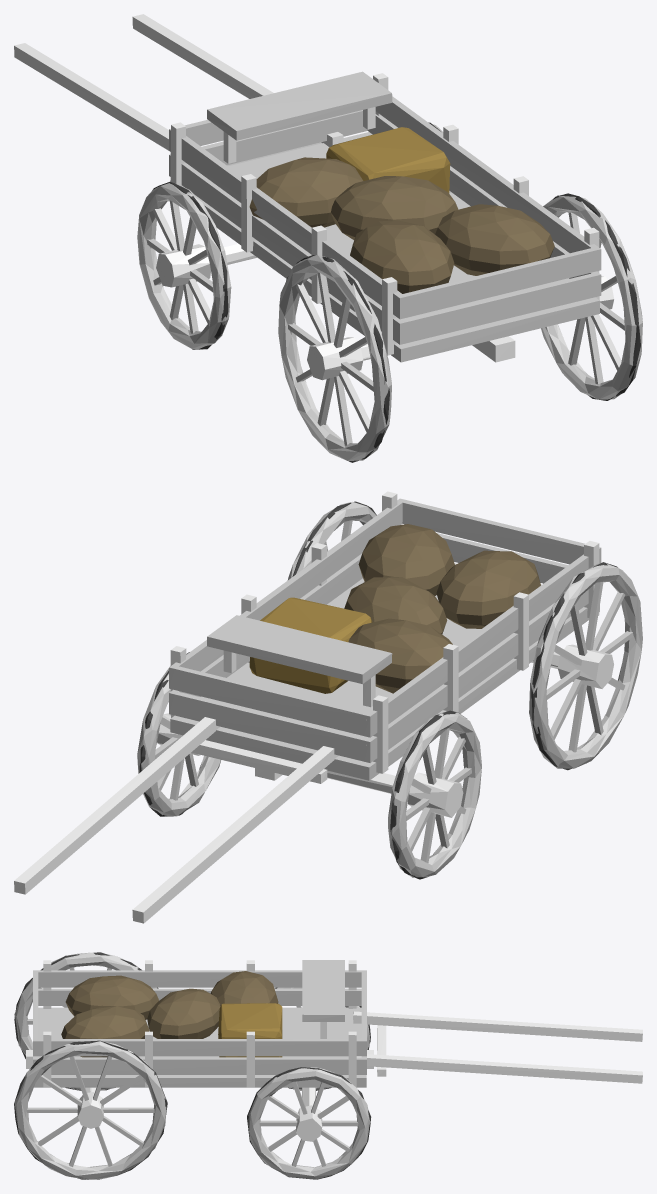
The model's file is araba.glb.
3 views of the same model, one above another, from view 1: azimuth 30°, elevation 25°; view 2: azimuth 150°, elevation 25°; view 3: azimuth 270°, elevation 25° (orthographic). The views are drawn at different scales.
Parts seen in each view (by area): view 1: Dikme; view 2: Dikme; view 3: Dikme.
Boxes of the visible parts, bbox=[...] form: Dikme: bbox=[14, 14, 642, 462]; Dikme: bbox=[14, 491, 642, 923]; Dikme: bbox=[14, 952, 642, 1179].
Size of the model in its own units: 0.3838 by 0.26 by 1.
